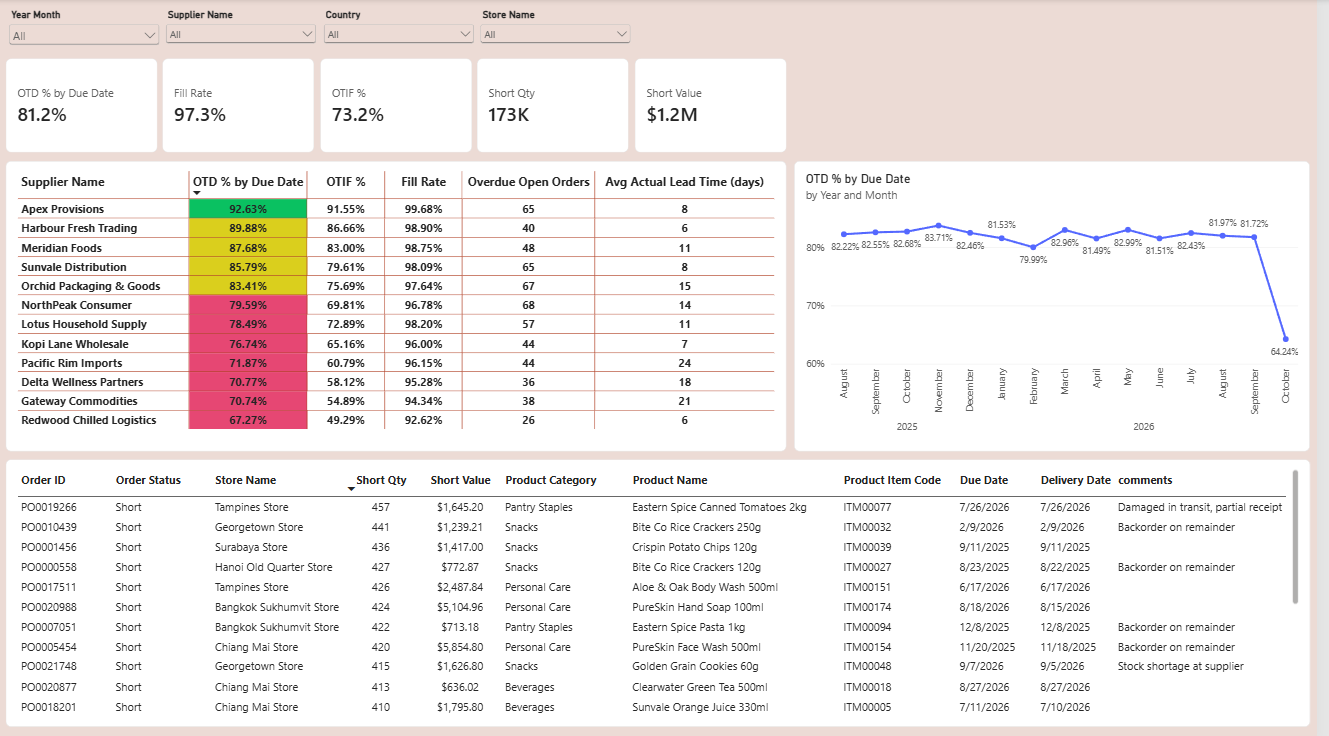

The page's visual inventory and layout, read from the dashboard file:
{"tool":"powerbi","page":{"name":"Supplier Scorecard","canvas":[1920,1080],"ordinal":0},"visuals":[{"type":"slicer","fields":{"Values":["Dim Date.DateMonth"]},"box":[10,13.3,228.9,57.8],"z":0},{"type":"slicer","fields":{"Values":["Dim Store.Country"]},"box":[467.8,13.3,228.9,72.2],"z":1000},{"type":"cardVisual","fields":{"Data":["F Order.OTD % by Due Date"]},"box":[10,85.6,221.1,137.8],"z":2000},{"type":"cardVisual","fields":{"Data":["F Order.OTIF %"]},"box":[467.8,85.6,221.1,137.8],"z":3000},{"type":"cardVisual","fields":{"Data":["F Order.Fill Rate"]},"box":[238.9,85.6,221.1,137.8],"z":4000},{"type":"cardVisual","fields":{"Data":["F Order.Short Qty"]},"box":[696.7,85.6,221.1,137.8],"z":5000},{"type":"cardVisual","fields":{"Data":["F Order.Short Value"]},"box":[925.6,85.6,221.1,137.8],"z":6000},{"type":"lineChart","fields":{"Category":["Dim Date.Date.Variation.Date Hierarchy.Year","Dim Date.Date.Variation.Date Hierarchy.Month"],"Y":["F Order.OTD % by Due Date"]},"box":[1158.6,235.7,751.4,422.9],"z":7000},{"type":"slicer","fields":{"Values":["Dim Supplier.Supplier Name"]},"box":[238.9,13.3,228.9,55.6],"z":8000},{"type":"tableEx","fields":{"Values":["Dim Supplier.Supplier Name","F Order.OTD % by Due Date","F Order.OTIF %","F Order.Fill Rate","F Order.Overdue Open Orders","F Order.Avg Actual Lead Time (days)"]},"box":[10,235.7,1137.1,422.9],"z":9000},{"type":"slicer","fields":{"Values":["Dim Store.Store Name"]},"box":[696.7,13.3,228.9,72.2],"z":10000},{"type":"tableEx","fields":{"Values":["F Order.order_id","F Order.Order Status","Dim Store.Store Name","F Order.Short Qty","F Order.Short Value","Dim Product.Product Category","Dim Product.Product Name","Dim Product.Product Item Code","F Order.due_date","F Order.delivery_date","F Order.comments"]},"box":[10,670,1900,390],"z":11000}]}

Visuals, with their boxes in screenshot pixels (x1, y1, x2, y2), scaled from the page's 1920x1080 canvas onto the 1329x736 screenshot:
slicer - Dim Date.DateMonth: {"left": 7, "top": 9, "right": 165, "bottom": 48}
slicer - Dim Store.Country: {"left": 324, "top": 9, "right": 482, "bottom": 58}
cardVisual - F Order.OTD % by Due Date: {"left": 7, "top": 58, "right": 160, "bottom": 152}
cardVisual - F Order.OTIF %: {"left": 324, "top": 58, "right": 477, "bottom": 152}
cardVisual - F Order.Fill Rate: {"left": 165, "top": 58, "right": 318, "bottom": 152}
cardVisual - F Order.Short Qty: {"left": 482, "top": 58, "right": 635, "bottom": 152}
cardVisual - F Order.Short Value: {"left": 641, "top": 58, "right": 794, "bottom": 152}
lineChart - Dim Date.Date.Variation.Date Hierarchy.Year x Dim Date.Date.Variation.Date Hierarchy.Month: {"left": 802, "top": 161, "right": 1322, "bottom": 449}
slicer - Dim Supplier.Supplier Name: {"left": 165, "top": 9, "right": 324, "bottom": 47}
tableEx - Dim Supplier.Supplier Name x F Order.OTD % by Due Date: {"left": 7, "top": 161, "right": 794, "bottom": 449}
slicer - Dim Store.Store Name: {"left": 482, "top": 9, "right": 641, "bottom": 58}
tableEx - F Order.order_id x F Order.Order Status: {"left": 7, "top": 457, "right": 1322, "bottom": 722}
